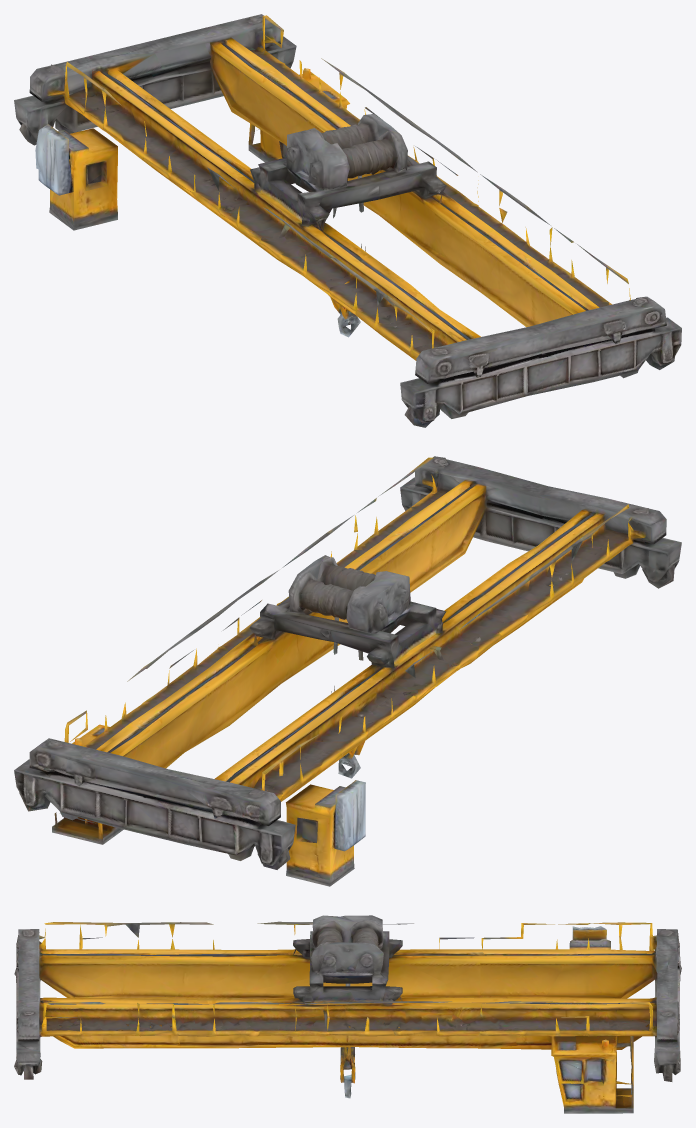
File: overheadCrane.glb
The picture shows the model from 3 angles, top to bottom: view 1: azimuth 30°, elevation 25°; view 2: azimuth 150°, elevation 25°; view 3: azimuth 270°, elevation 25°; orthographic projection. The views are drawn at different scales.
Parts seen in each view (by area): view 1: overheadCrane; view 2: overheadCrane; view 3: overheadCrane.
Part boxes in pixels (x1,y1,x2,y2): overheadCrane: (14,14,681,427); overheadCrane: (14,456,681,886); overheadCrane: (14,915,681,1113).
Size of the model in its own units: 13.36 by 8.95 by 32.
1 material, 1 textured.
